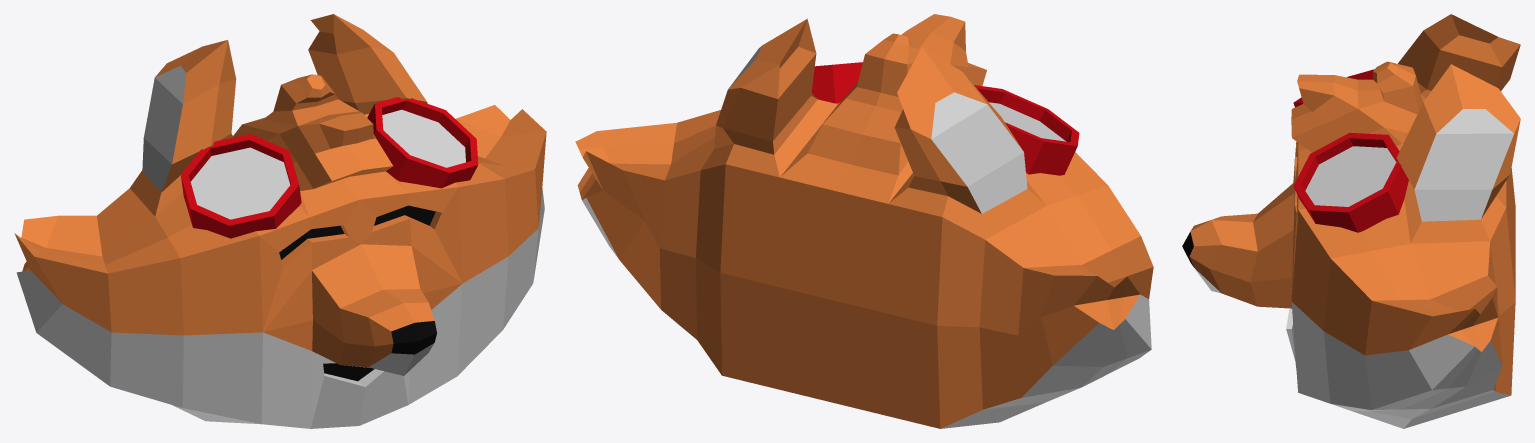
File: Fox.fbx
3 views of the same model, side by side, from view 1: azimuth 30°, elevation 25°; view 2: azimuth 150°, elevation 25°; view 3: azimuth 270°, elevation 25° (orthographic). The views are drawn at different scales.
Visible parts, largest first — view 1: Fox; view 2: Fox; view 3: Fox.
Part boxes in pixels (<box>): Fox: <box>14,14,546,428</box>; Fox: <box>575,14,1153,428</box>; Fox: <box>1182,14,1520,428</box>.
Size of the model in its own units: 514 by 337 by 302.
